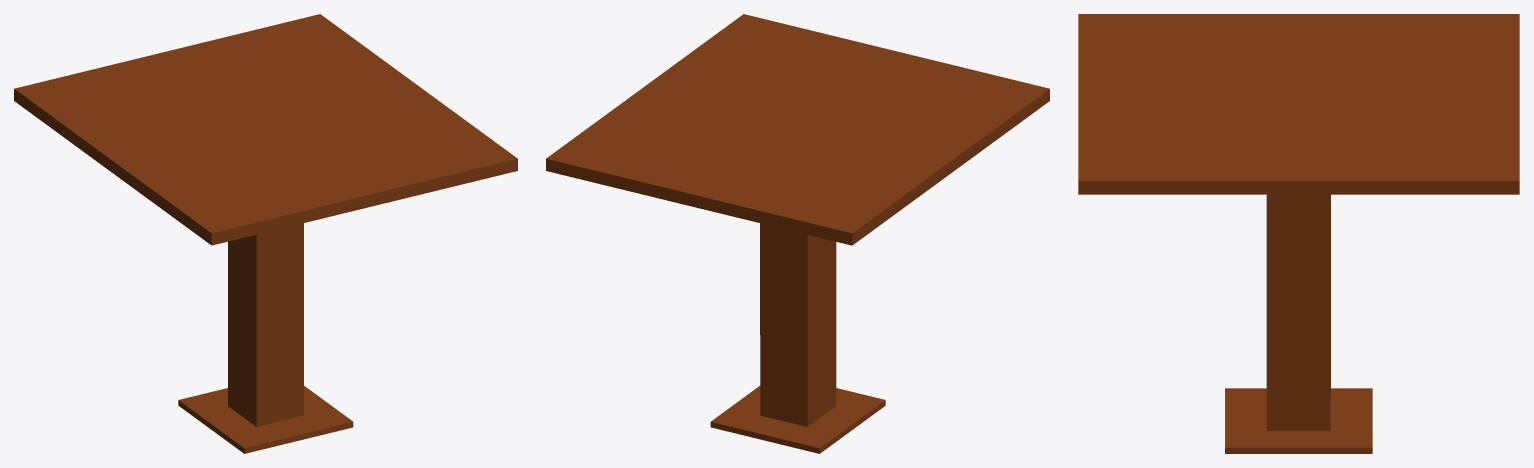
Rendered from Mesa.fbx.
The picture shows the model from 3 angles, left to right: view 1: azimuth 30°, elevation 25°; view 2: azimuth 150°, elevation 25°; view 3: azimuth 270°, elevation 25°; orthographic projection. The views are drawn at different scales.
Visible parts, largest first — view 1: Mesa_1; view 2: Mesa_1; view 3: Mesa_1.
Part boxes in pixels (<box>): Mesa_1: <box>14,14,517,453</box>; Mesa_1: <box>546,14,1049,453</box>; Mesa_1: <box>1078,14,1519,453</box>.
Bounding box in the file's own units: 89.39 × 81.69 × 99.93.
